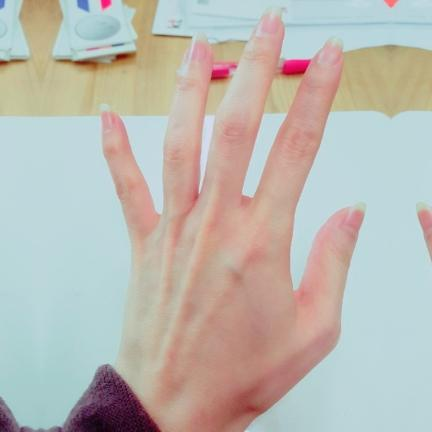Nail: (340, 201, 366, 234), (318, 37, 344, 68), (254, 6, 280, 37), (188, 31, 210, 61), (415, 201, 432, 234), (98, 104, 114, 132)
